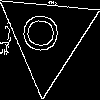O: (22, 11, 67, 55)
